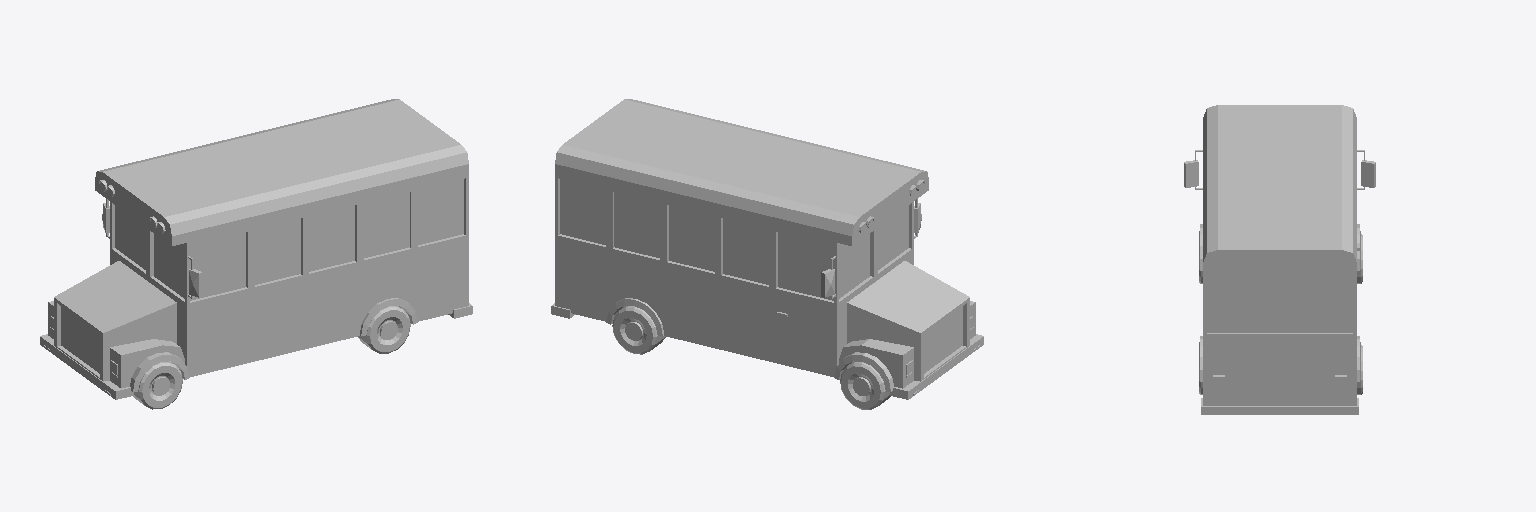
The model's file is model_half_bus.obj.
3 views of the same model, side by side, from view 1: azimuth 30°, elevation 25°; view 2: azimuth 150°, elevation 25°; view 3: azimuth 270°, elevation 25° (orthographic).
Parts seen in each view (by area): view 1: G_Bus_MAT_Base_0, G_Bus_BWheelL_MAT_Base_0, G_Bus_FWheelL_MAT_Base_0; view 2: G_Bus_MAT_Base_0, G_Bus_BWheelR_MAT_Base_0, G_Bus_FWheelR_MAT_Base_0; view 3: G_Bus_MAT_Base_0.
Part boxes in pixels (x1,y1,x2,y2): G_Bus_MAT_Base_0: (40, 99, 472, 399); G_Bus_BWheelL_MAT_Base_0: (358, 306, 410, 353); G_Bus_FWheelL_MAT_Base_0: (133, 361, 182, 409); G_Bus_MAT_Base_0: (551, 99, 983, 399); G_Bus_BWheelR_MAT_Base_0: (612, 306, 665, 354); G_Bus_FWheelR_MAT_Base_0: (840, 361, 890, 409); G_Bus_MAT_Base_0: (1184, 105, 1375, 414).
Size of the model in its own units: 4.36 by 2.13 by 2.03.